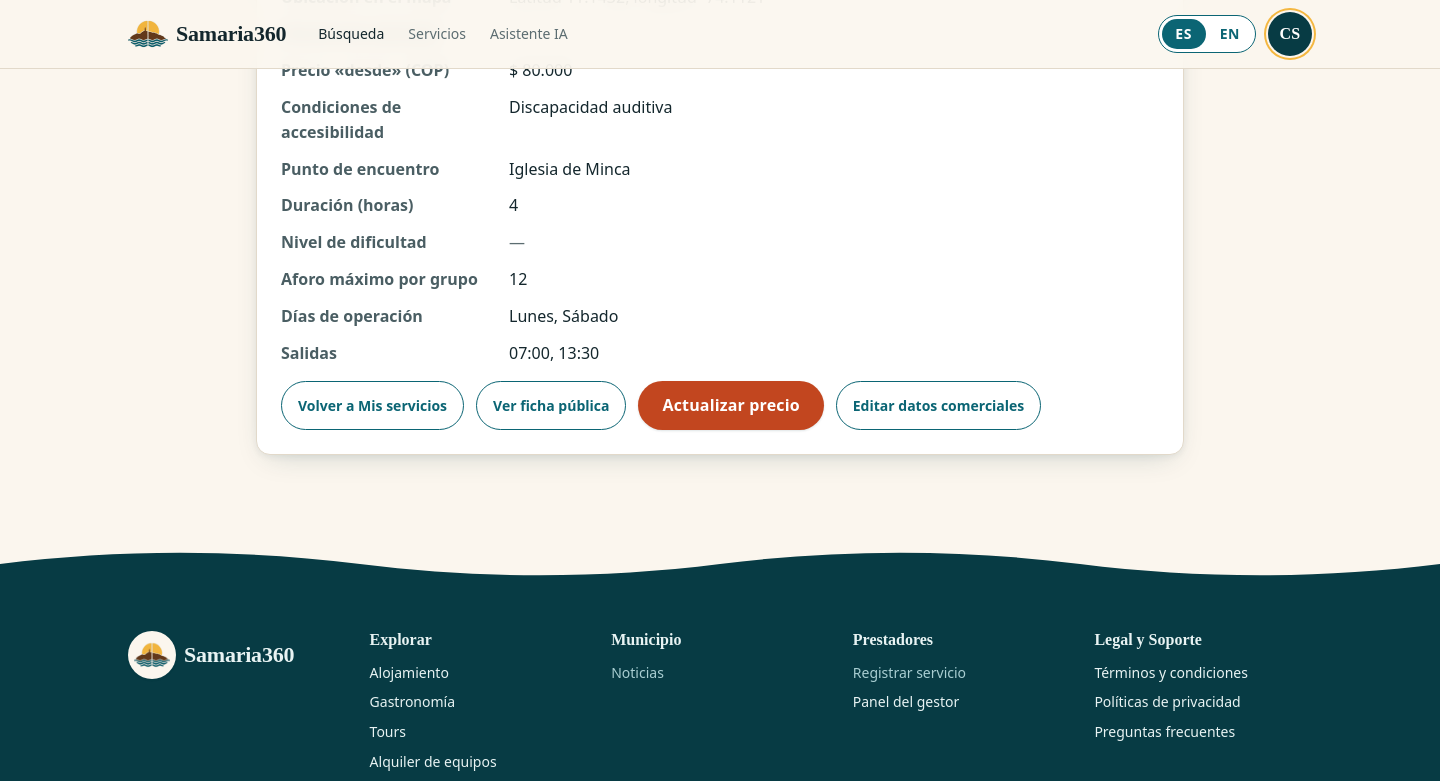
Scenario: Datos comerciales del servicio (RF43) › desde el detalle Publicado: el aviso de «sin nueva aprobación», la nota de los contactos y un cuerpo con solo nombre, contacto y versión
The width and height of the screenshot is (1440, 781).
(page scrolled)
Click the link "Editar datos comerciales": x=939, y=406 [836,381,1041,430]
(page scrolled)
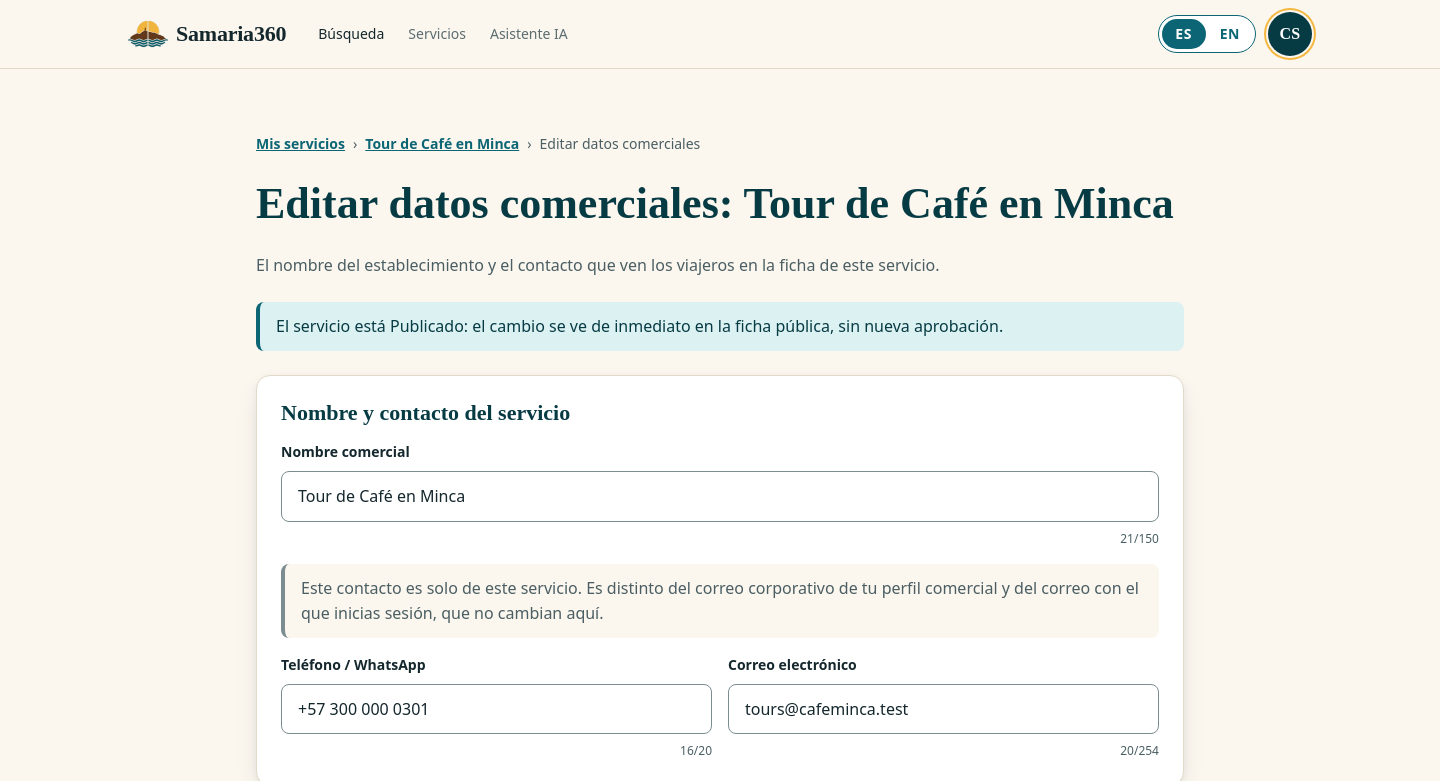
Expected: the text "está Publicado: el cambio se ve de inmediato en la ficha pública, sin nueva aprobación" is shown, [276,315,1003,337]
Expected: the text "Es distinto del correo corporativo de tu perfil comercial y del correo con el que inicias sesión" is shown, [301,577,1139,624]
Expected: the field labelled "Teléfono / WhatsApp" holds "+57 300 000 0301", [298,684,695,733]
Replace the text in the field labelled "Nombre comercial" with "  Café de Minca ": x=720, y=496 [298,472,1142,521]
(page scrolled)
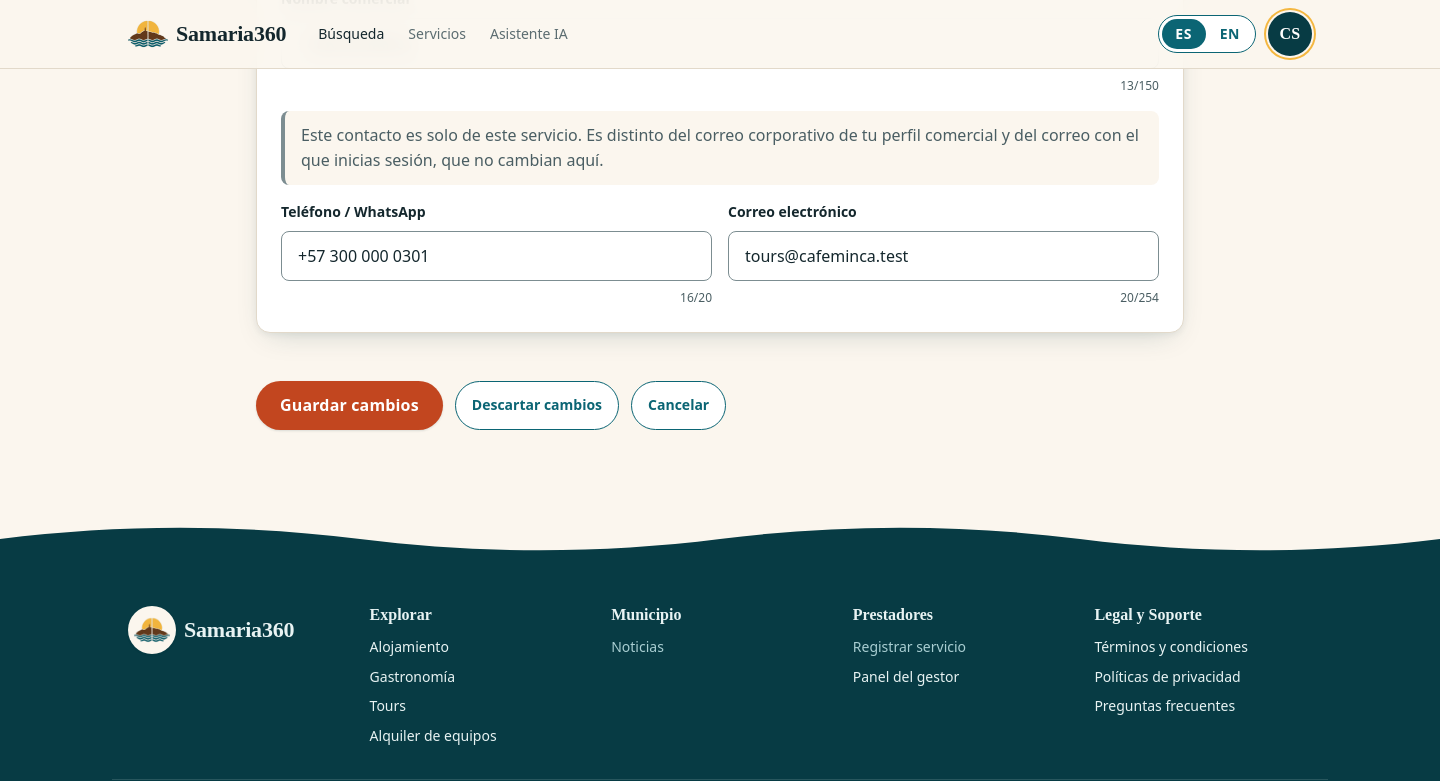
Click the button "Guardar cambios": x=349, y=405 [256,381,443,430]
(page scrolled)
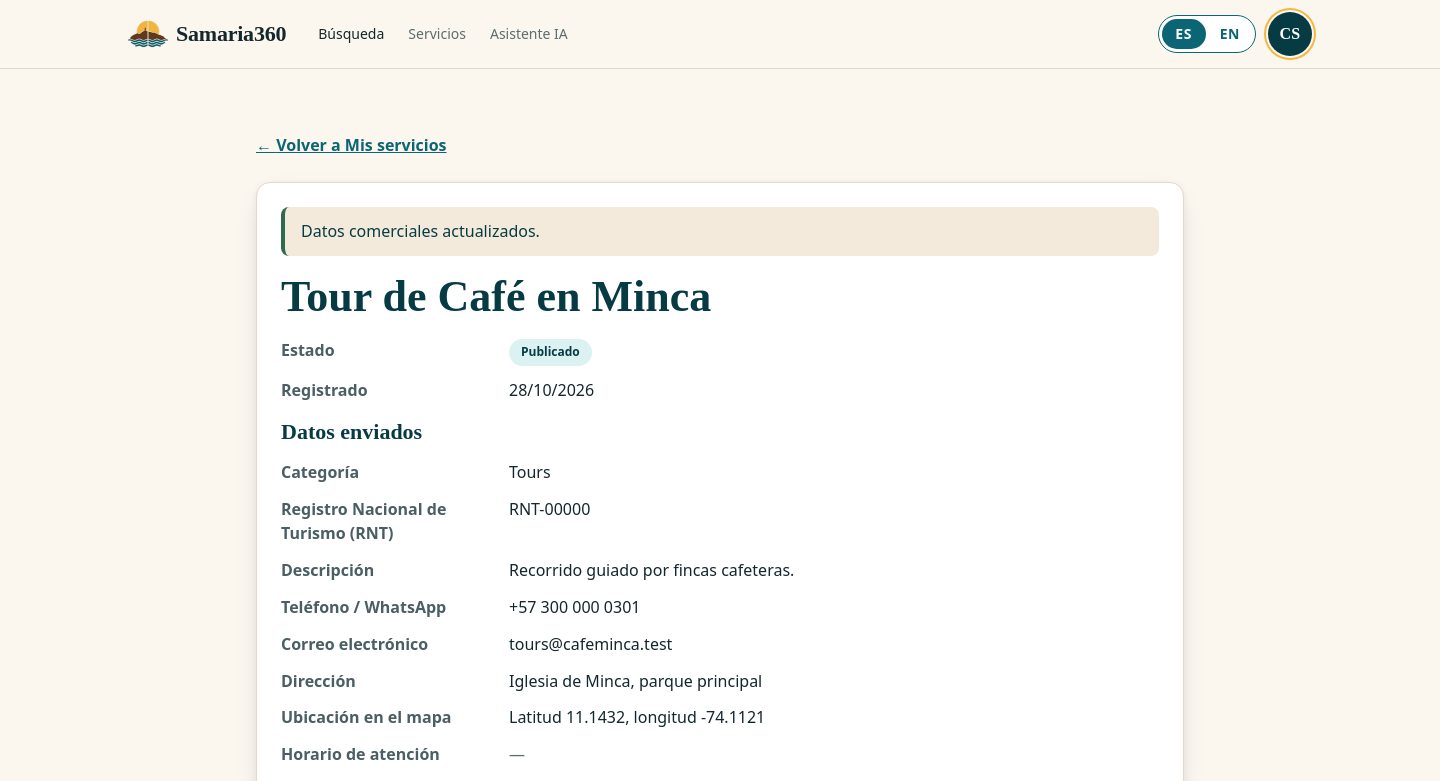
Expected: the text "Datos comerciales actualizados." is shown, [281,207,1159,256]
